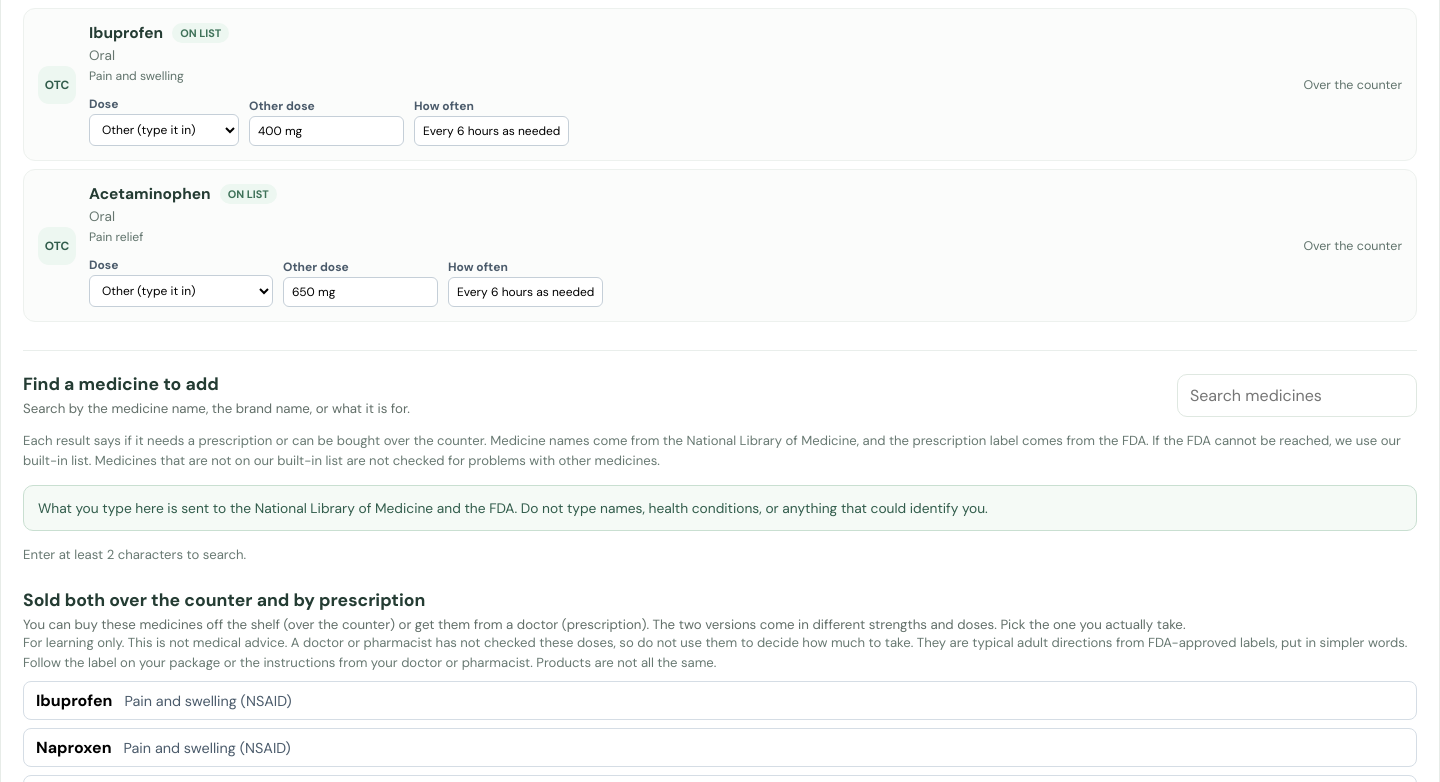
falls back to the built-in list with a notice when RxNorm is unavailable
(page scrolled)
Type "warfarin" into the search field named "Search all medicines" at [1297, 396], box [1177, 374, 1417, 417]
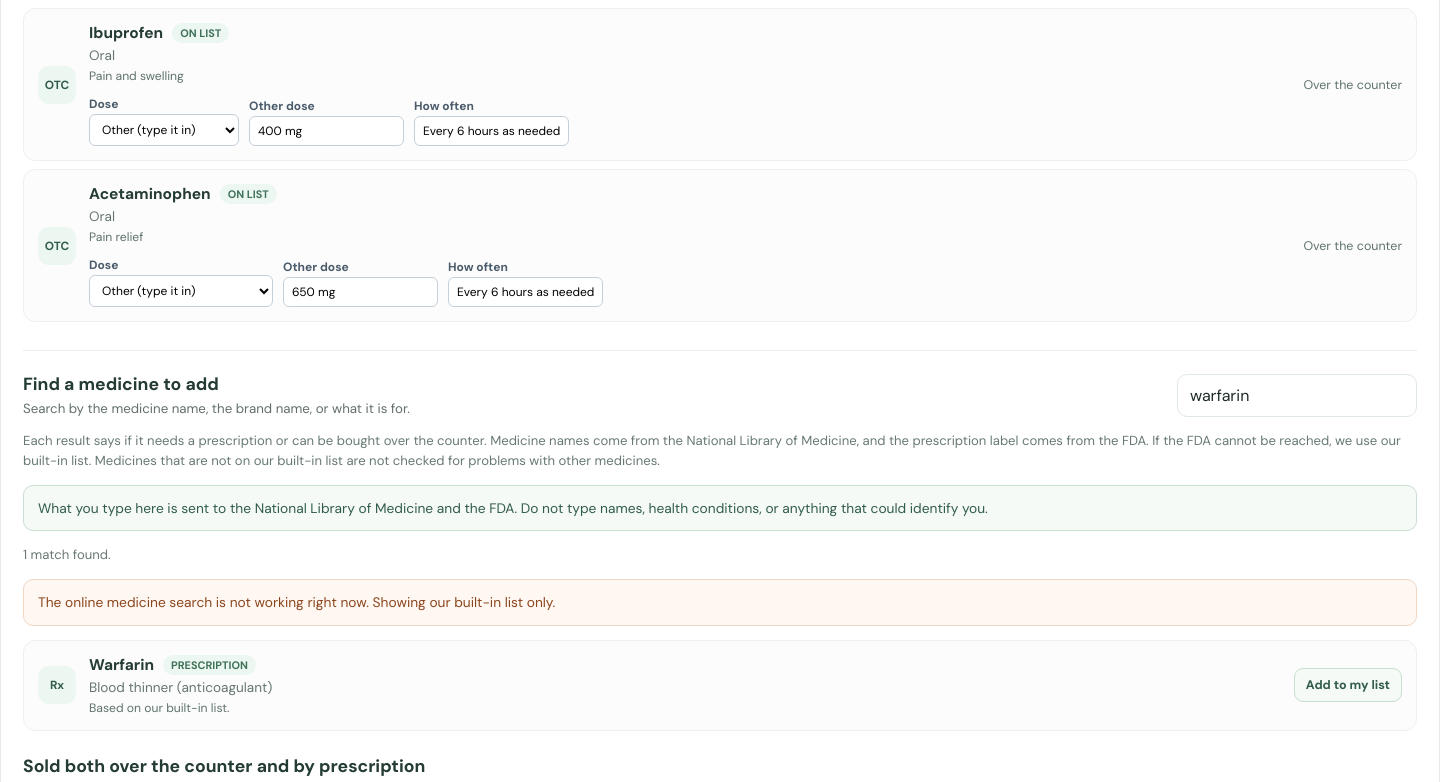
Expected: the 2nd message shows "Showing our built-in list only", [38, 593, 555, 611]
Expected: the text "Warfarin" is shown, [89, 655, 154, 675]
